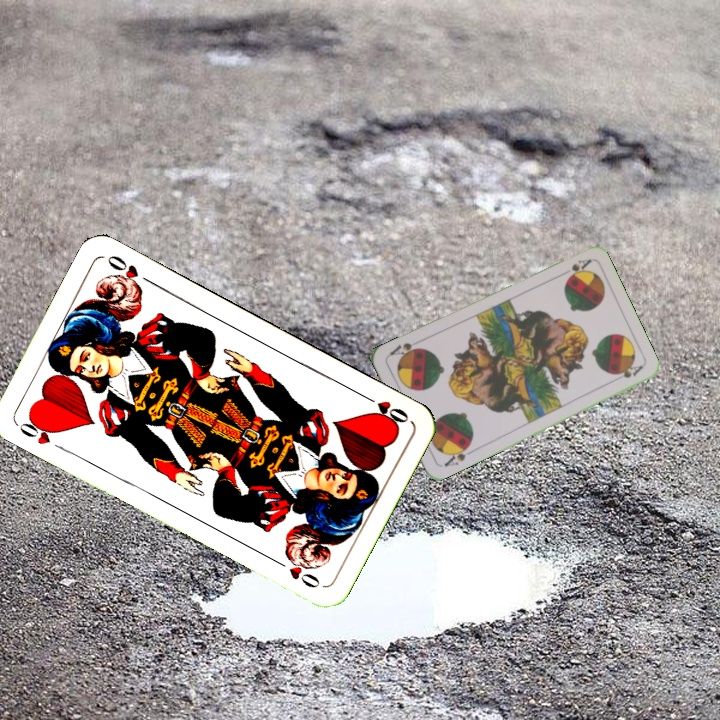HO: (358, 390, 411, 430), (13, 412, 61, 448)
SA: (440, 440, 475, 469), (562, 255, 594, 282)
